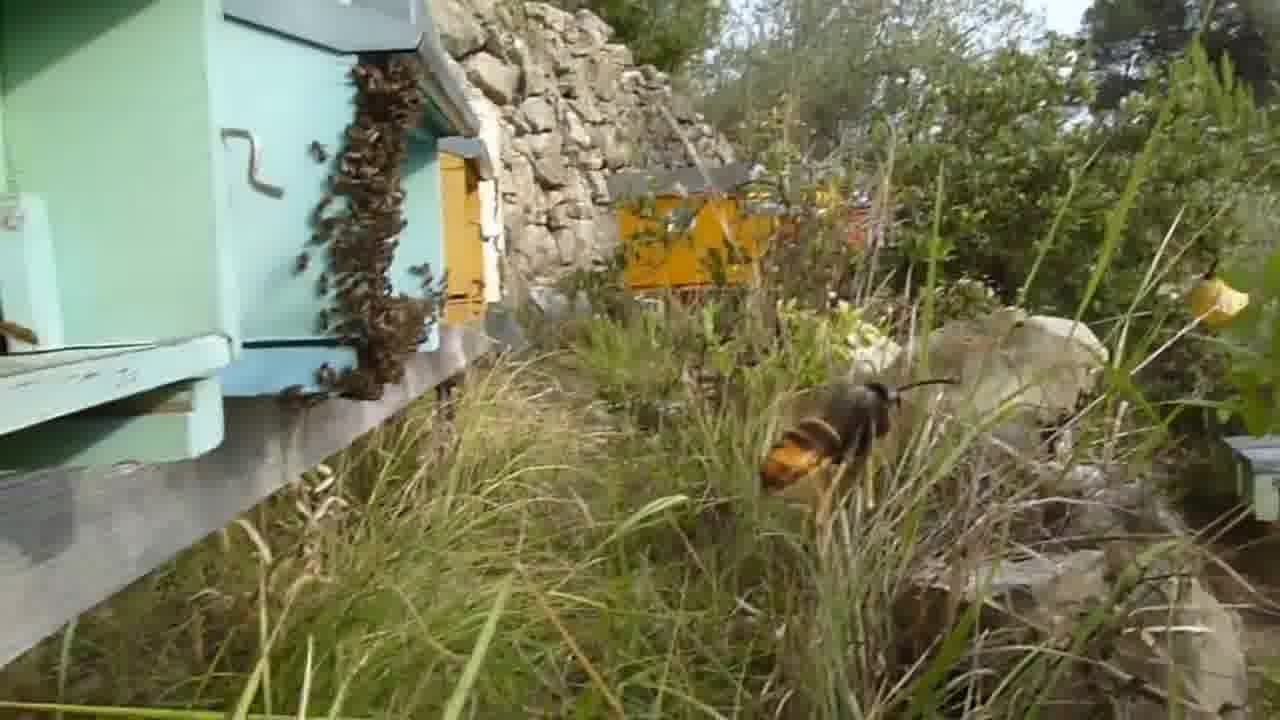bee: (305, 158, 409, 274), (335, 49, 419, 152), (299, 278, 422, 342)
hornet: (751, 355, 922, 503)
